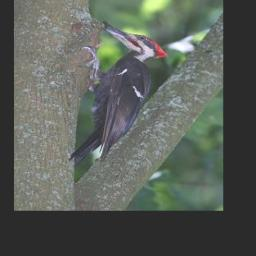Woodpecker: (69, 22, 169, 166)
